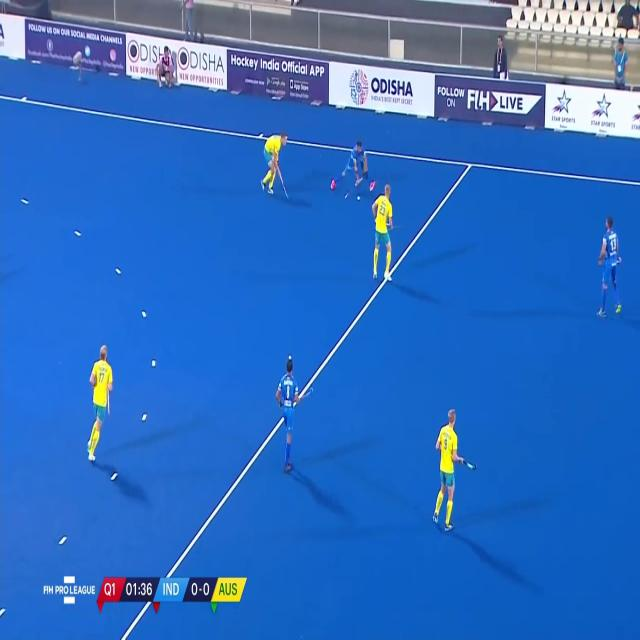ball: (356, 194, 361, 204)
